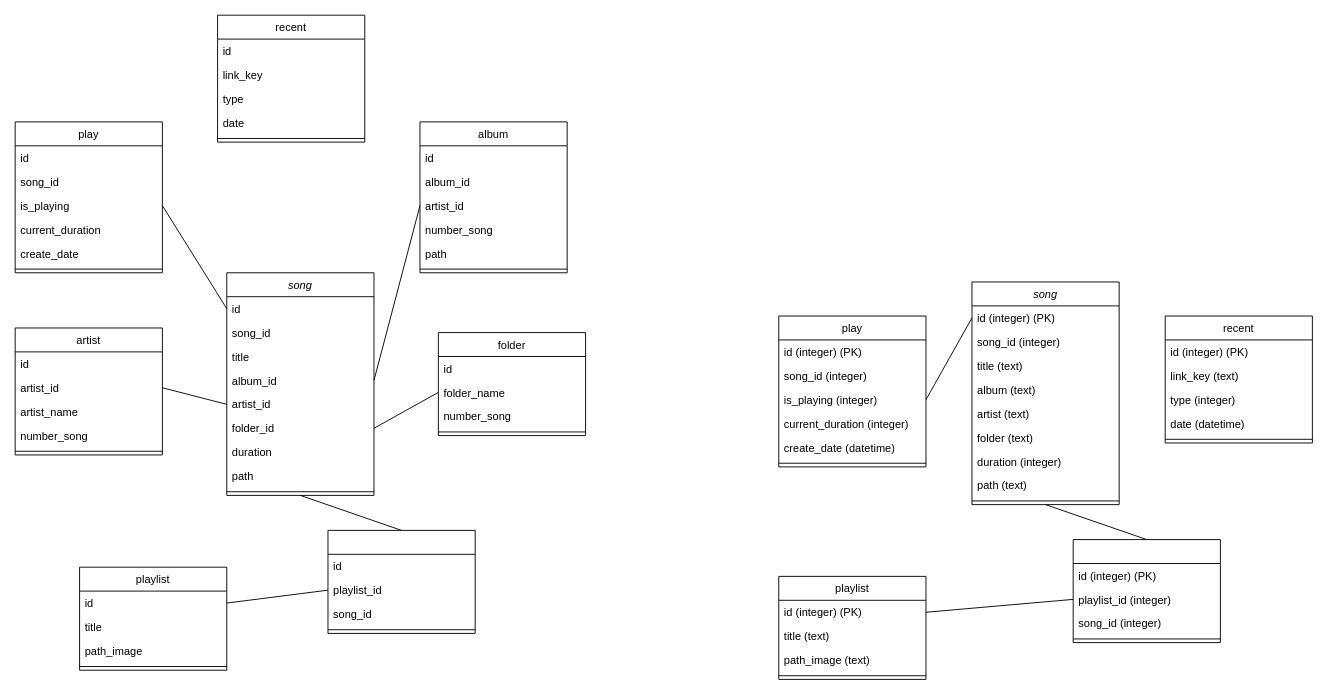
Some shapes in this 1328 by 695 pixel diagram are drawn without their labels. The box of each missing label's shape, as (x1, y1, x2, y2) in pixels:
playlist_song: (1072, 539, 1220, 643)
playlistsong: (327, 529, 475, 633)
